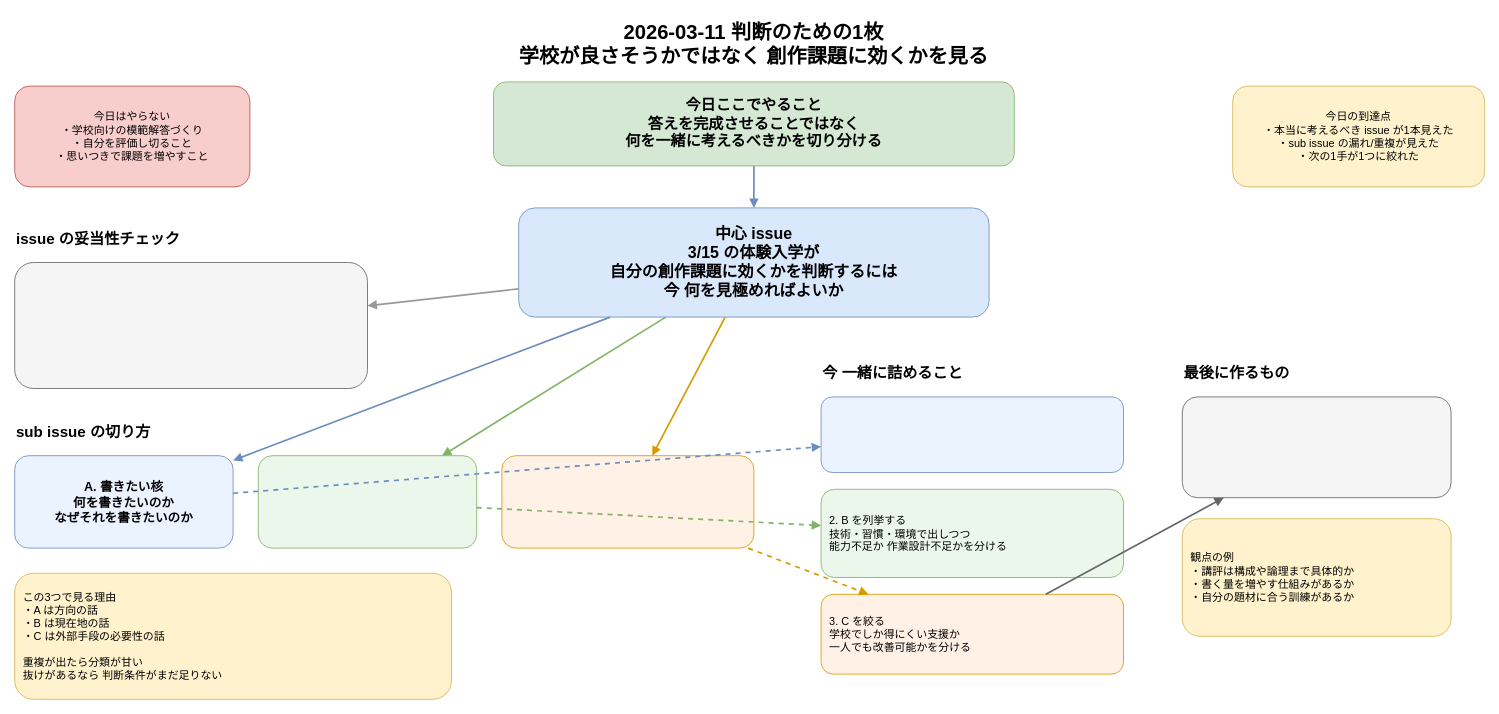
This 1499x714 diagram has some shape labels left out. The centre of each missing label's shape, as x and y in pixels:
"1. A を 2-3 文で言う 例: constrain / なぜ自分にとって重要か" belongs at pixel 972 434.
"B. 今の詰まり 何が足りず どこで止まっているのか" belongs at pixel 367 501.
"C. 学校に期待する役割 その詰まりのうち 学校でしか取りにくいものは何か" belongs at pixel 627 501.
"この issue は本質か？ 1. 学校選びではなく 創作判断に直結しているか 2. 今日の作業で前進が見えるか 3. これが整理できると 当日の質問が作れるか" belongs at pixel 191 325.
"当日に持っていく問い この学校は 自分の詰まりのうち どれを どう改善できる場なのか" belongs at pixel 1316 447.
